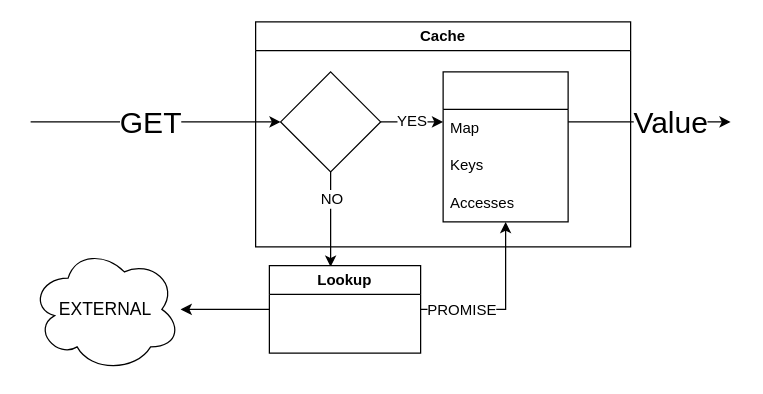
Image size: 763x394. Some labels were removed from this diagram. Here are the shapes that lost their labels. From the top down, the box of each, then its label:
(279, 71, 381, 172): EXISTS
(442, 71, 568, 222): CacheState
